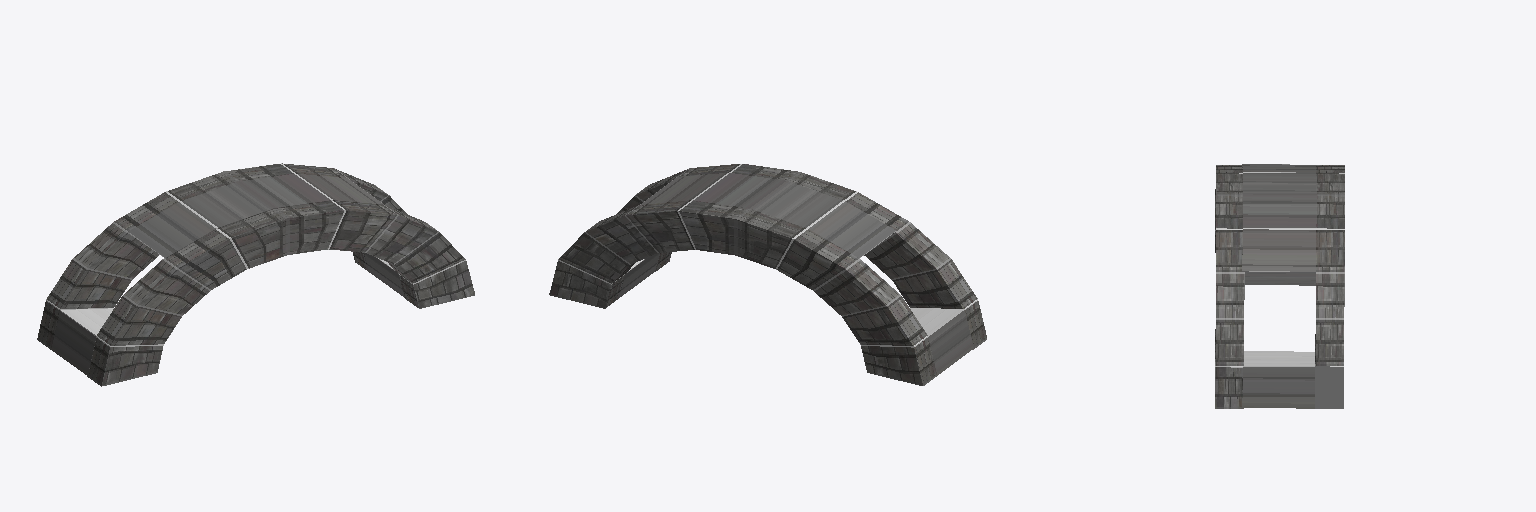
3 views of the same model, side by side, from view 1: azimuth 30°, elevation 25°; view 2: azimuth 150°, elevation 25°; view 3: azimuth 270°, elevation 25° (orthographic).
Parts seen in each view (by area): view 1: pPipe3; view 2: pPipe3; view 3: pPipe3.
Boxes of the visible parts, x1,y1,x2,y2 form: pPipe3: [37, 163, 474, 386]; pPipe3: [549, 164, 986, 385]; pPipe3: [1215, 164, 1344, 408].
Bounding box in the file's own units: 6.98 × 2.2 × 2.1.
Materials: 2 (1 with a texture image).